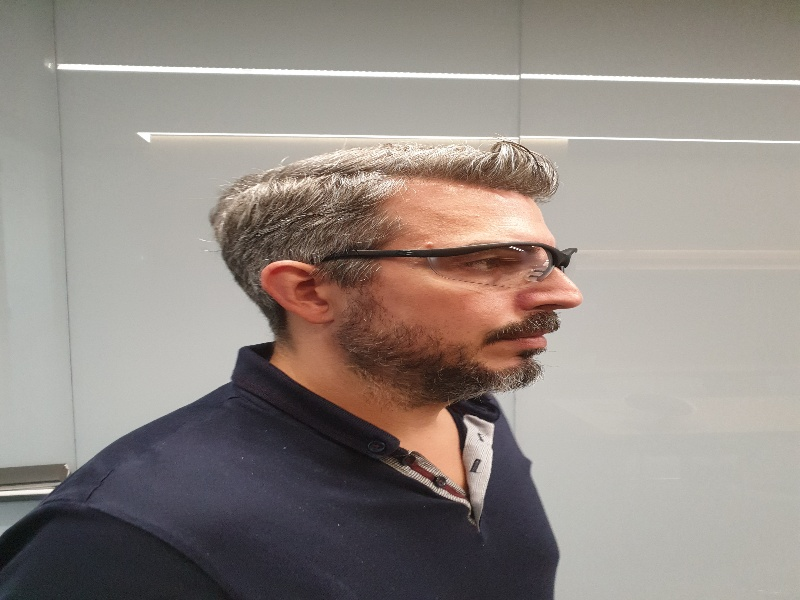Gozluk: (328, 243, 580, 292)
